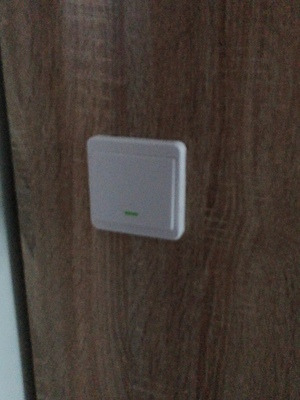switch: (92, 156, 166, 230)
